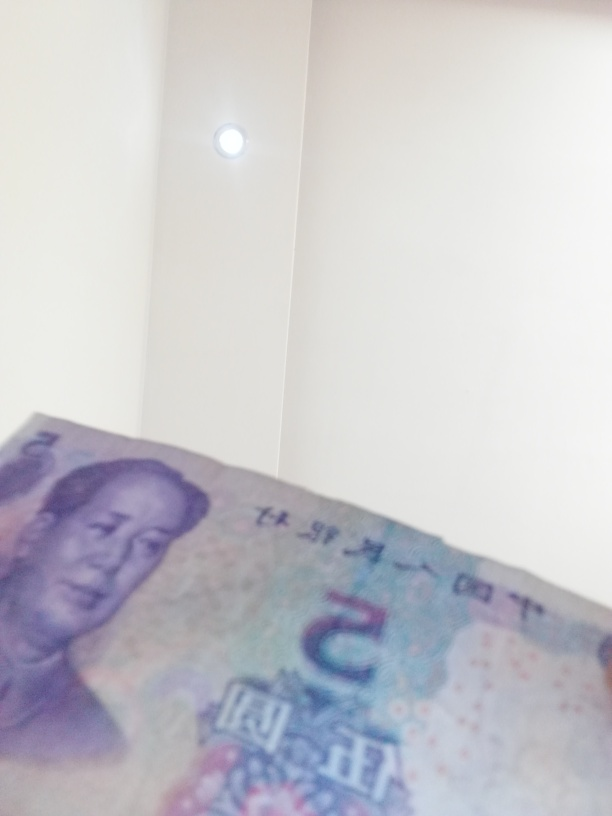rmb: (1, 414, 607, 816)
